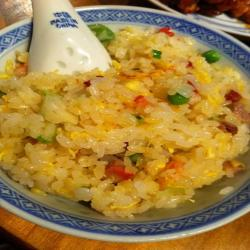rice: (10, 29, 250, 222)
